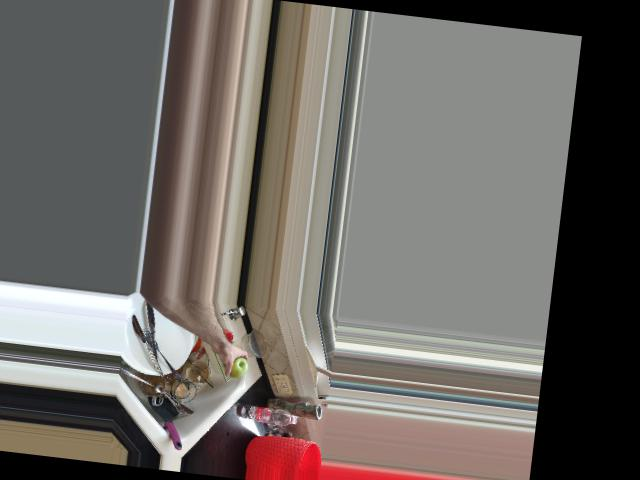apple: (223, 355, 251, 378)
